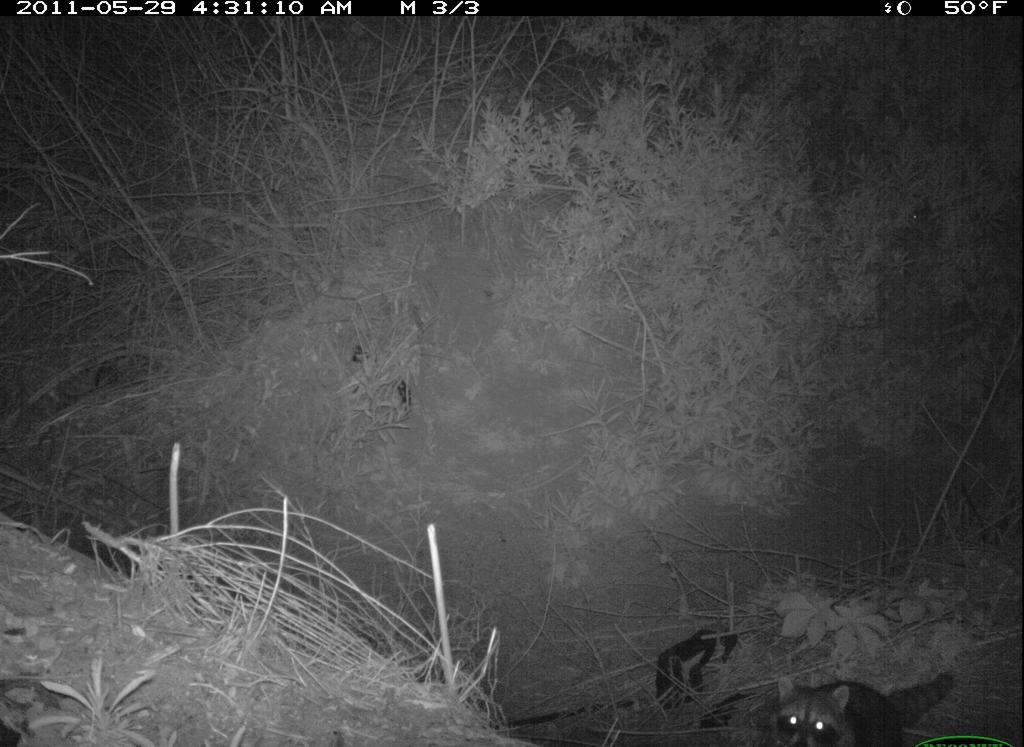raccoon: (775, 662, 955, 747)
